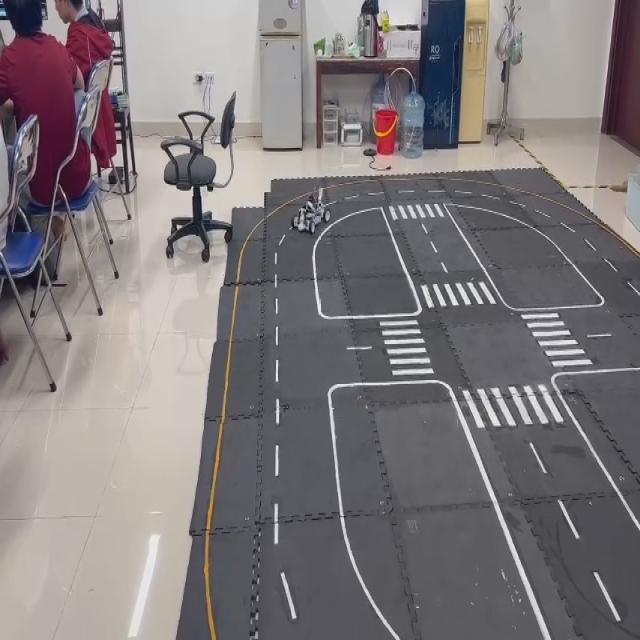SiCo-CAR: (291, 185, 330, 235)
